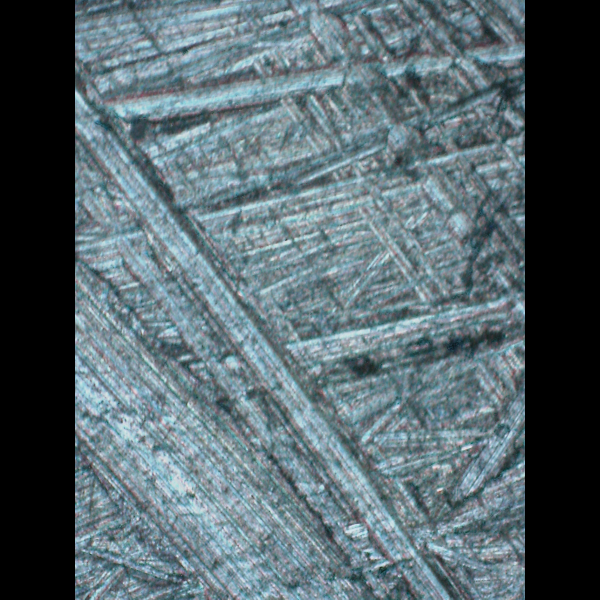d: (75, 87, 414, 600), (248, 10, 524, 396)
